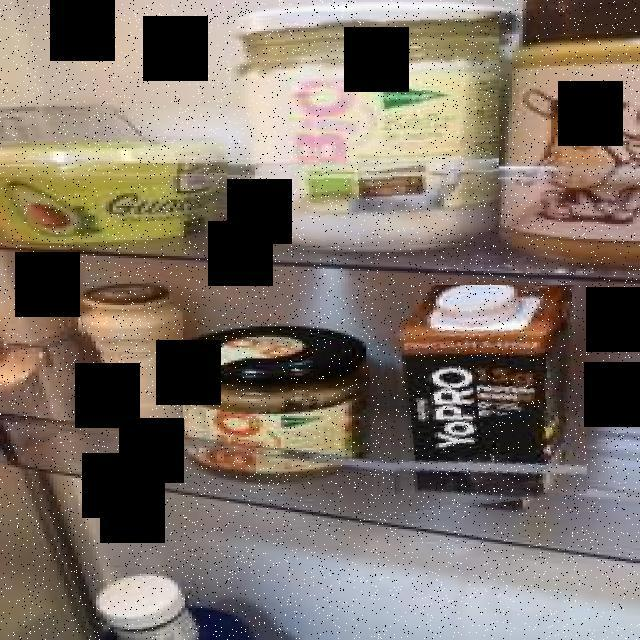guacamole: (7, 136, 228, 250)
yogurt: (233, 12, 499, 250), (377, 285, 587, 513), (77, 278, 183, 430)
